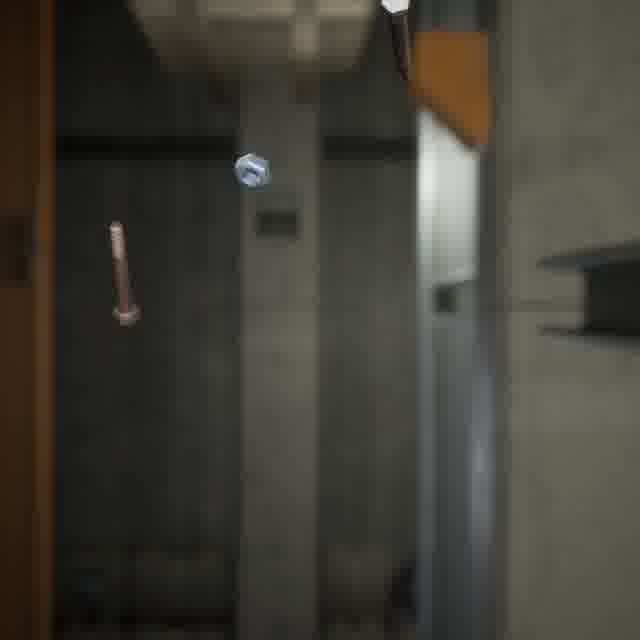bolt: (104, 217, 144, 329), (376, 0, 416, 86)
nut: (229, 148, 275, 194)
